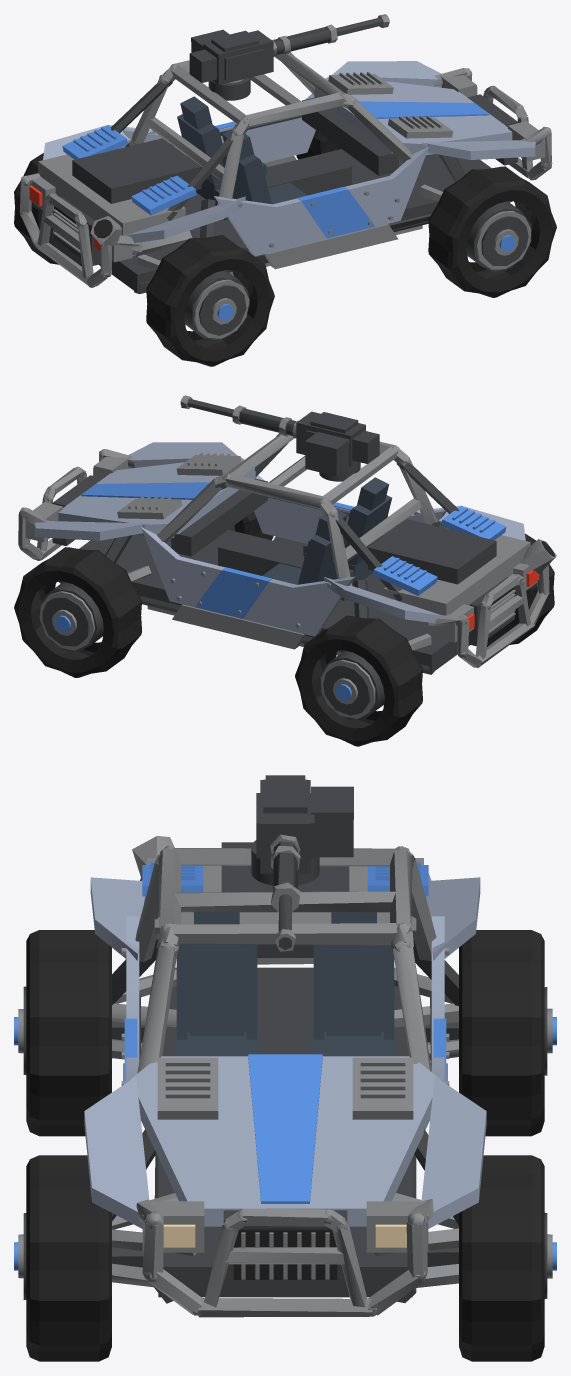
File: buggy.glb
3 renders of one model, top to bottom at view 1: azimuth 30°, elevation 25°; view 2: azimuth 150°, elevation 25°; view 3: azimuth 270°, elevation 25°, orthographic. The views are drawn at different scales.
Parts seen in each view (by area): view 1: Hull, WheelFR, WheelRR1, Turret, Gun, WheelRL1, WheelFL; view 2: Hull, WheelFL, WheelRL1, Turret, Gun, WheelRR1, WheelFR; view 3: Hull, WheelRL1, WheelRR1, WheelFR, WheelFL, Turret, Gun.
Boxes of the visible parts, x1,y1,x2,y2 form: Hull: (19, 51, 552, 293); WheelFR: (428, 166, 556, 297); WheelRR1: (146, 235, 274, 366); Turret: (189, 29, 273, 100); Gun: (272, 14, 389, 56); WheelRL1: (14, 153, 81, 266); WheelFL: (296, 130, 341, 159); Hull: (18, 433, 556, 674); WheelFL: (14, 547, 141, 677); WheelRL1: (295, 615, 422, 746); Turret: (296, 411, 379, 481); Gun: (180, 395, 298, 438); WheelRR1: (487, 533, 554, 646); WheelFR: (228, 511, 273, 540); Hull: (84, 836, 486, 1317); WheelRL1: (459, 930, 556, 1136); WheelRR1: (14, 930, 111, 1136); WheelFR: (14, 1155, 111, 1361); WheelFL: (459, 1155, 556, 1361); Turret: (251, 775, 353, 885); Gun: (270, 834, 300, 951).
Size of the model in its own units: 5.69 by 2.94 by 3.57.
